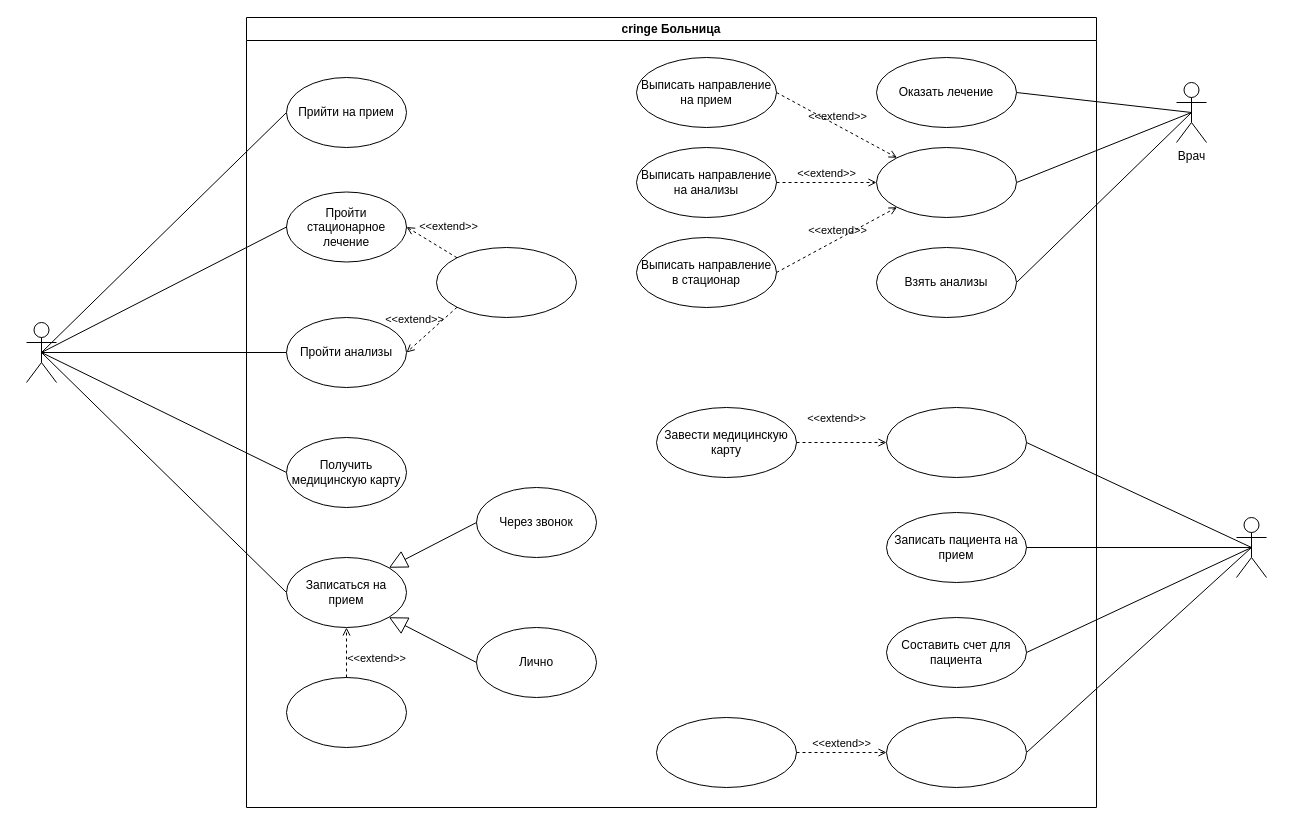
The diagram is 1299 pixels wide and 825 high, and some of its shapes have lost their labels. The centre of each missing label's shape, as x and y in pixels:
"Выдать медицинскую карту" belongs at pixel 956 442.
"Изменить запись на прием" belongs at pixel 346 712.
"Изменить запись пациента" belongs at pixel 956 752.
"Оплатить счет" belongs at pixel 506 282.
"Отменить запись" belongs at pixel 726 752.
"Пациент" belongs at pixel 41 352.
"Провести прием" belongs at pixel 946 182.
"Регстратор" belongs at pixel 1251 547.
